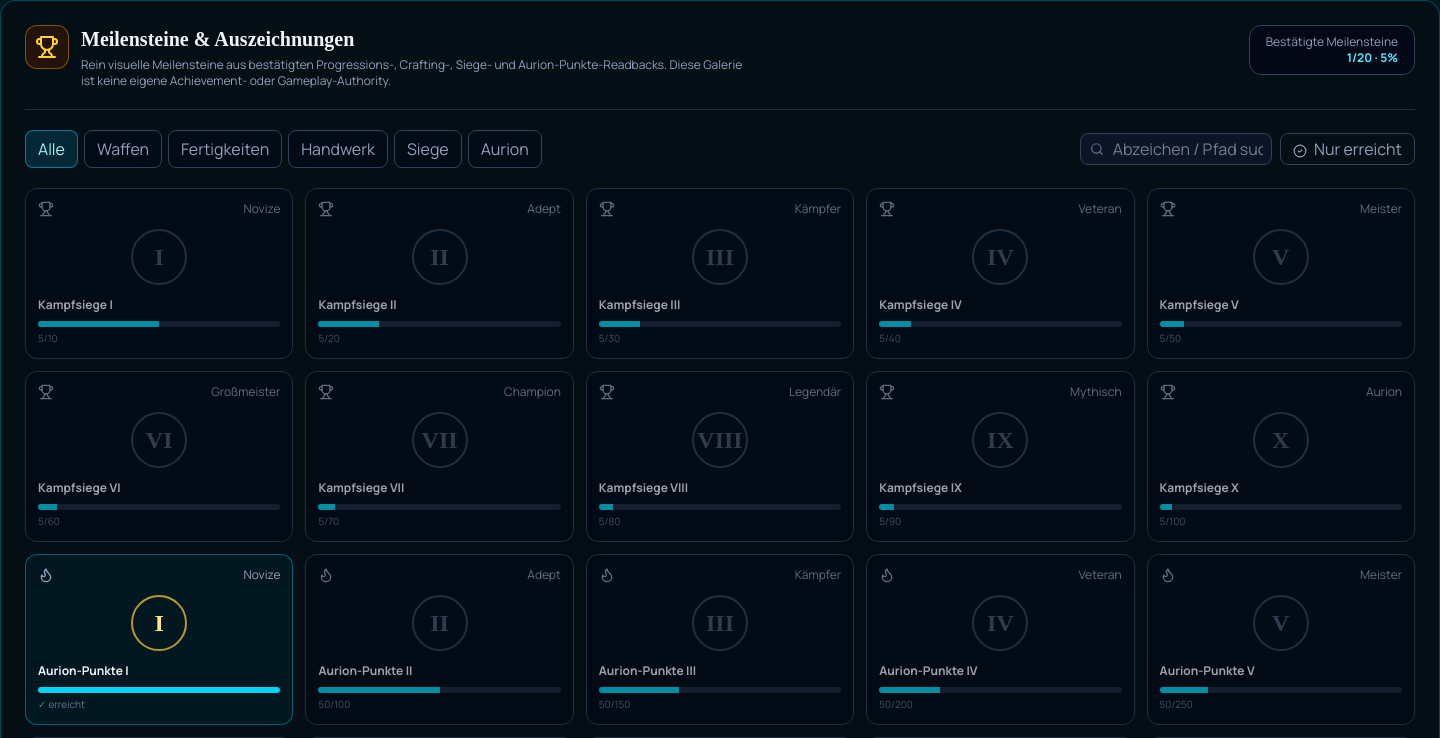
Test: truth-bound achievements gallery › filters to reached milestones without changing source data
Click the button "Nur erreicht" at {"x": 1347, "y": 149}, box [1280, 133, 1415, 165]
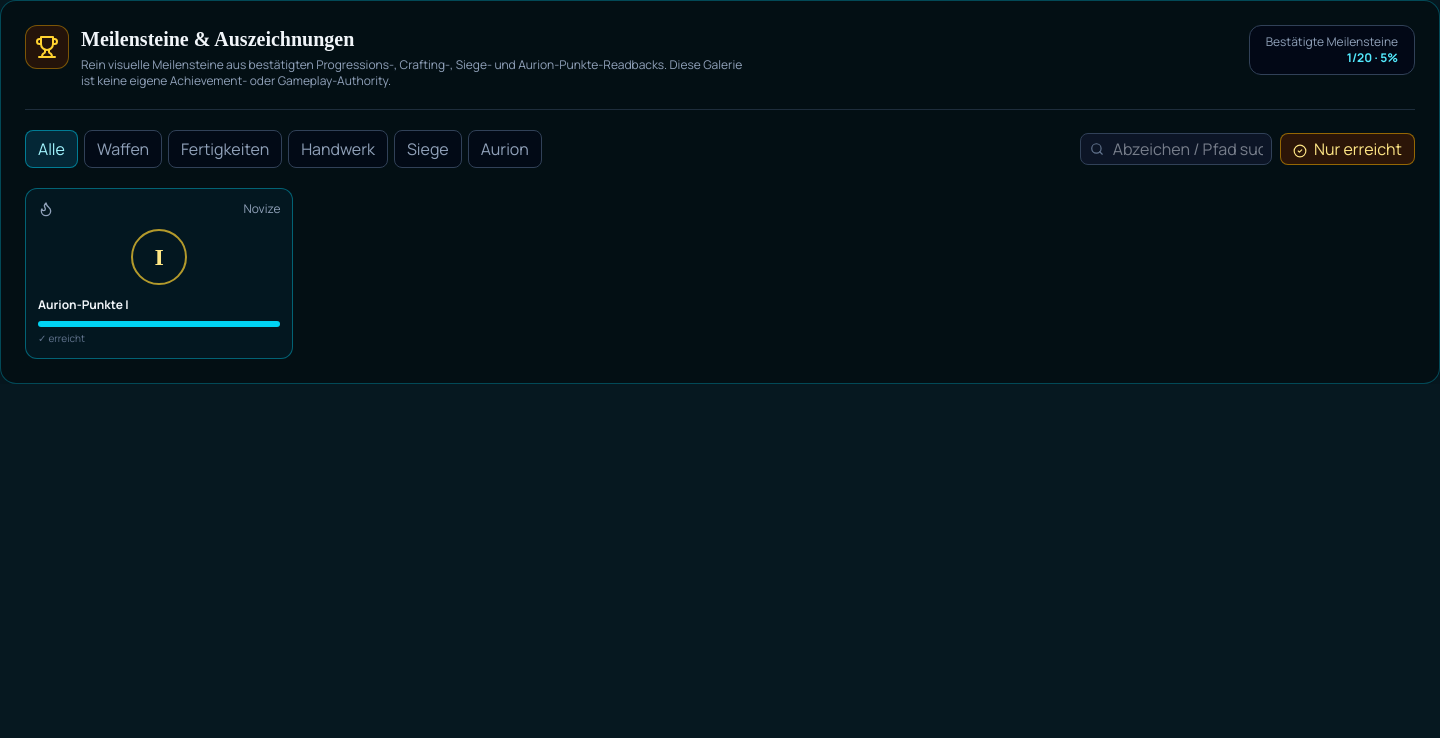
Expected: the text "Aurion-Punkte I" is shown, [38, 296, 129, 313]
Result: the button "Kampfsiege I" is gone
